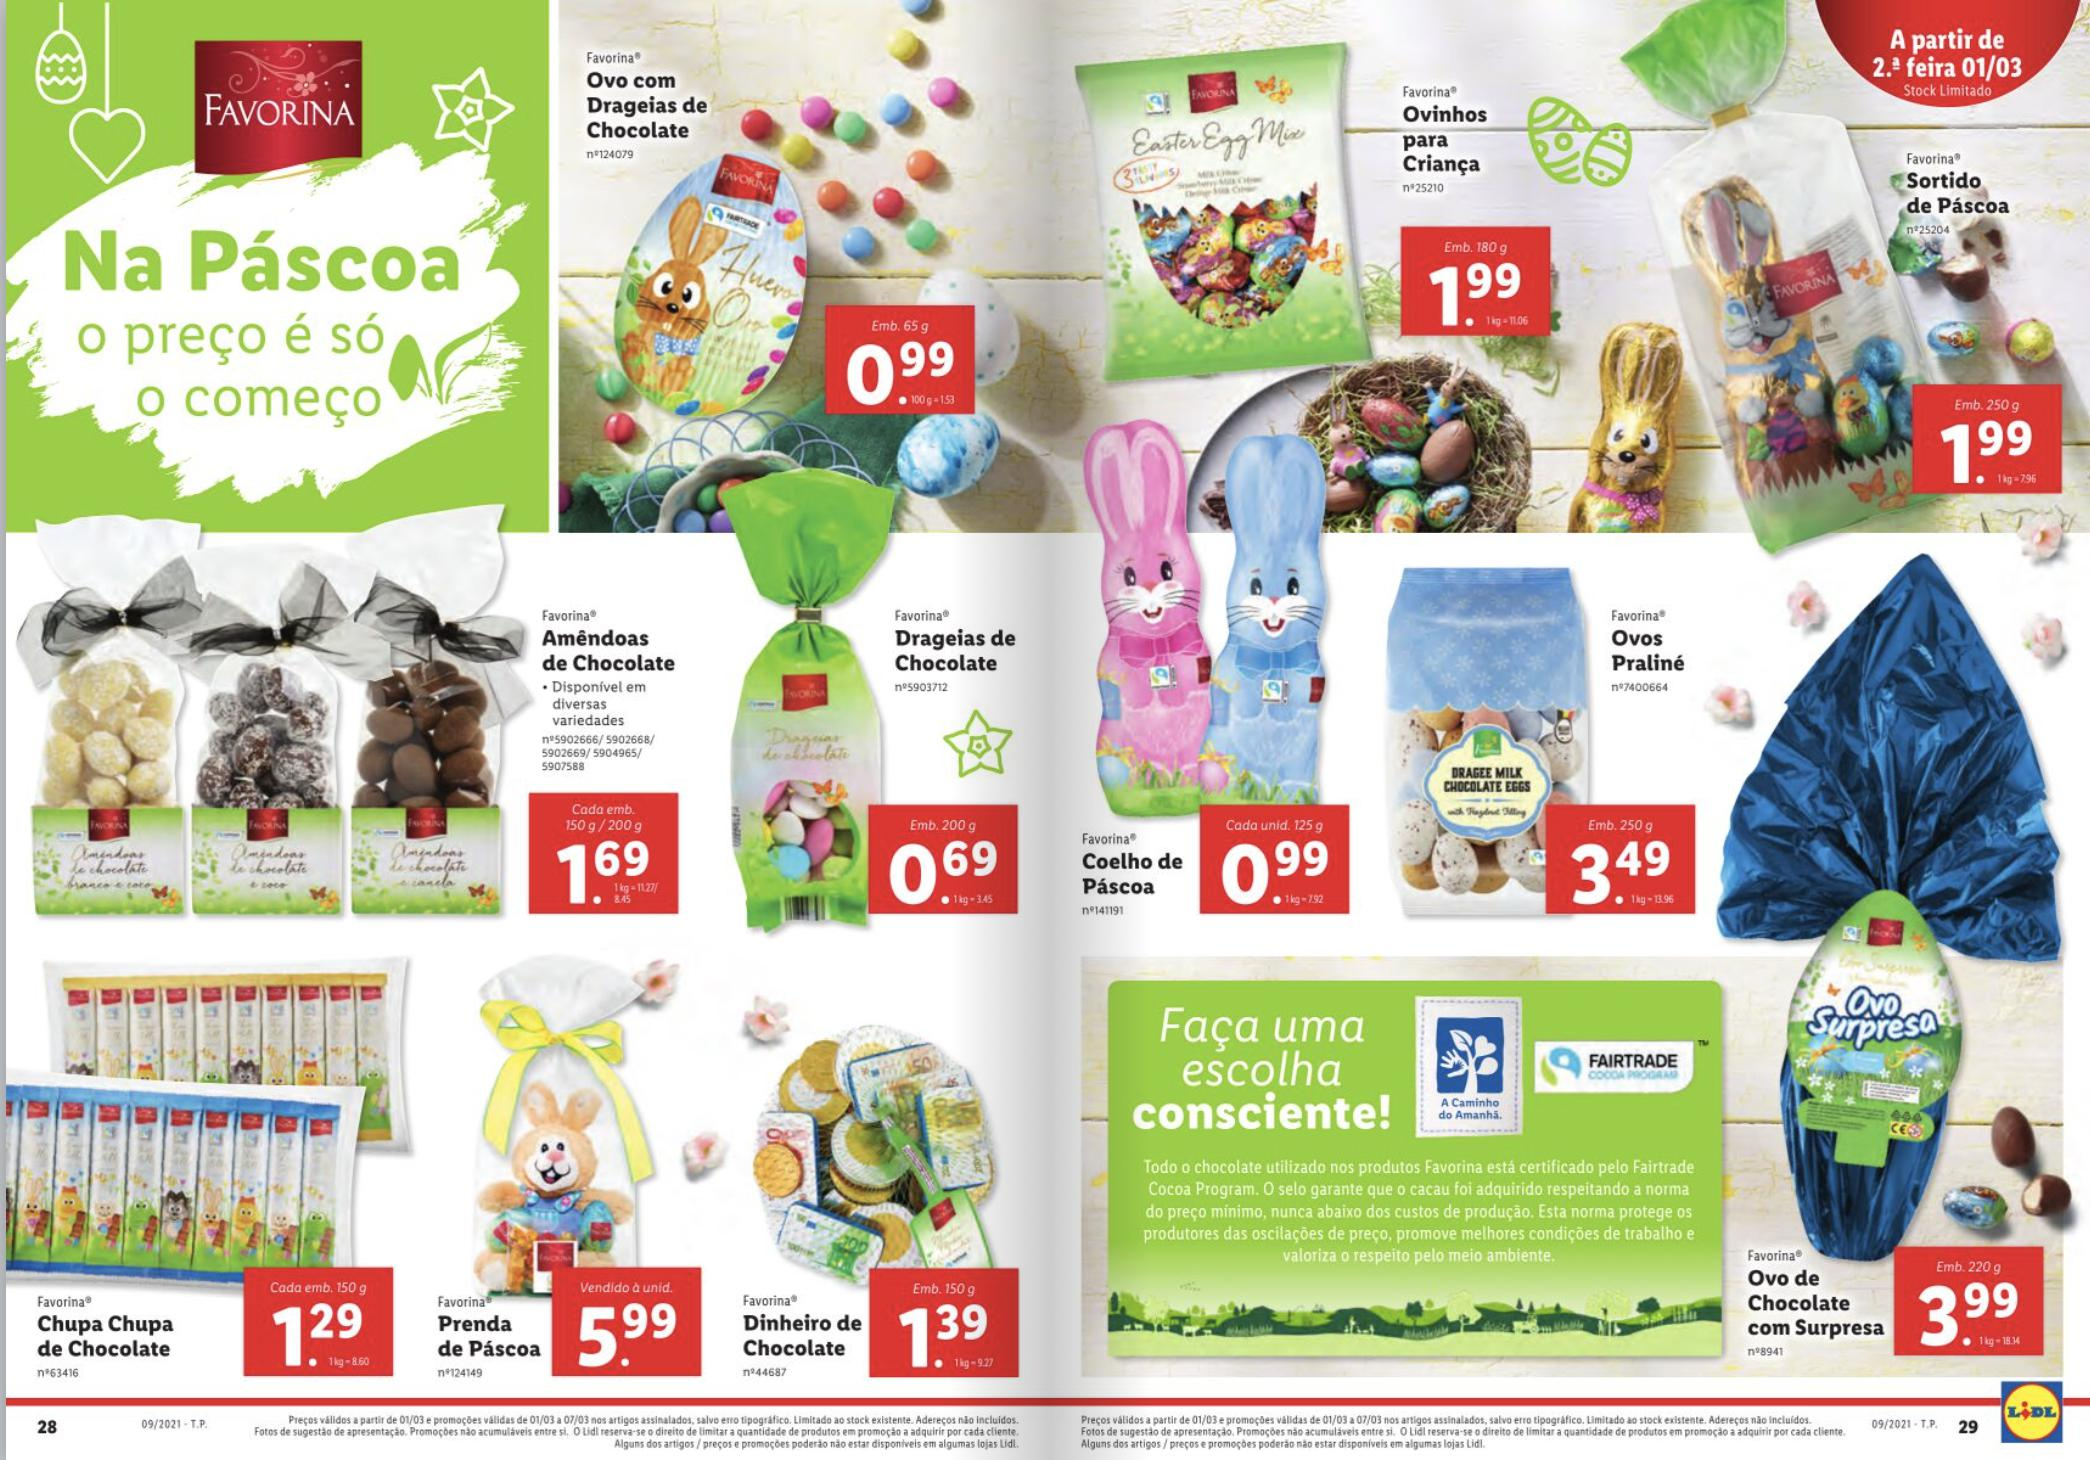name: (565, 64, 724, 149), (1736, 1263, 1888, 1349), (869, 623, 1021, 685), (538, 623, 686, 686), (1394, 98, 1501, 184), (738, 1304, 873, 1366), (27, 1311, 186, 1363), (1891, 164, 2026, 222), (434, 1304, 548, 1363), (1080, 840, 1186, 899), (1601, 620, 1695, 685)
price: (1418, 257, 1545, 343), (1553, 837, 1691, 913), (839, 337, 966, 416), (1215, 837, 1342, 910), (1915, 1277, 2036, 1352), (548, 837, 661, 917), (877, 837, 1001, 907), (1936, 423, 2050, 496), (569, 1300, 686, 1366), (896, 1300, 1001, 1374), (268, 1303, 376, 1374)
product: (1722, 562, 2065, 1373), (6, 540, 689, 937), (554, 29, 1048, 461), (2, 948, 451, 1404), (1066, 25, 1571, 402), (1663, 91, 2060, 554), (418, 937, 735, 1408), (1074, 437, 1355, 948), (738, 955, 1058, 1387), (724, 534, 1045, 944), (1390, 550, 1715, 937)
